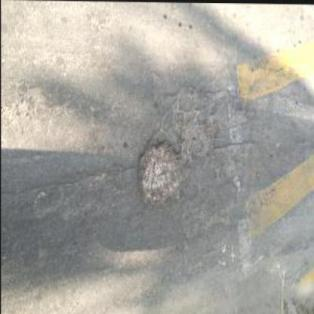Hueco: (135, 138, 187, 209), (179, 114, 218, 159)
